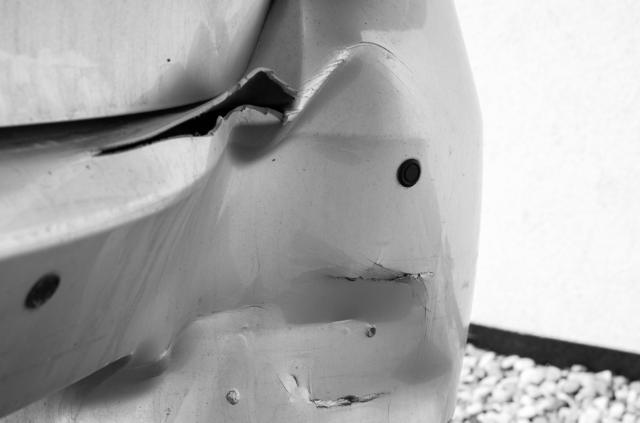Bumper: (66, 29, 505, 423)
